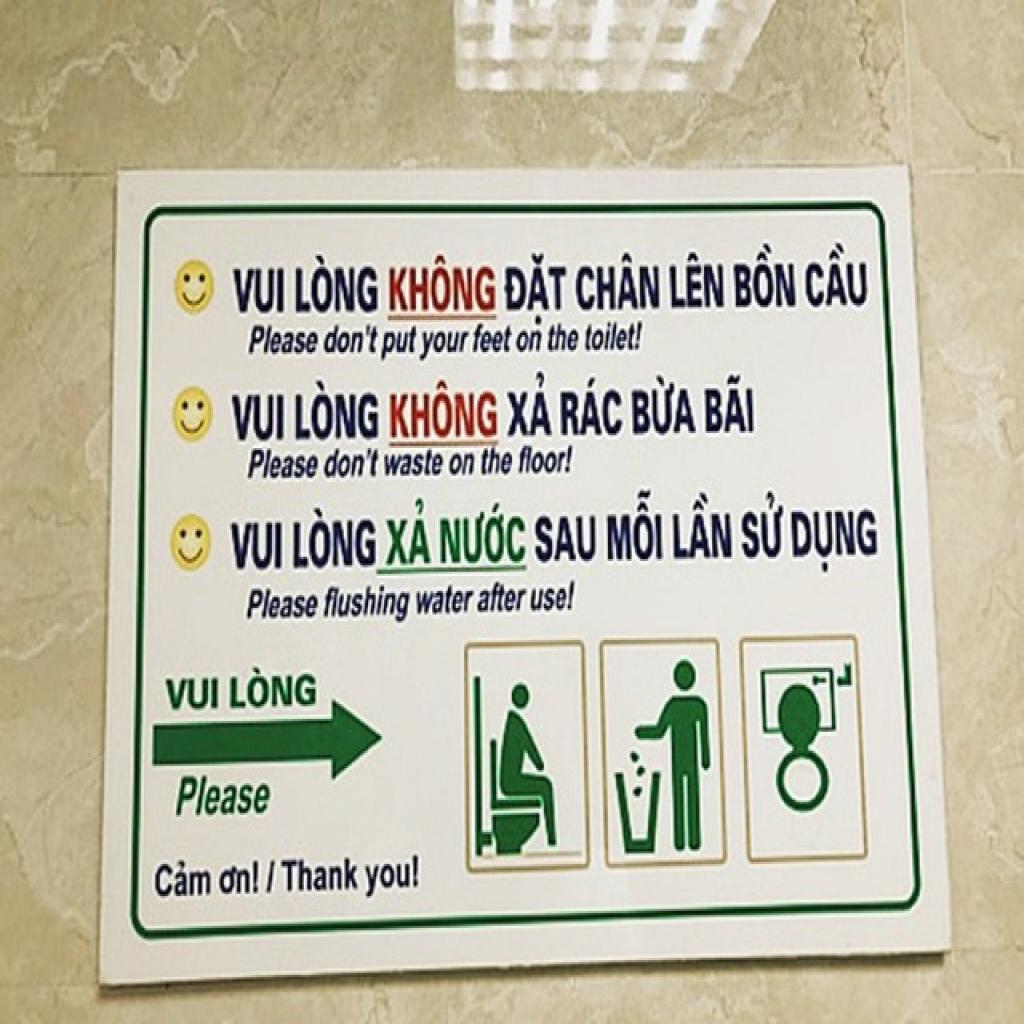text: (387, 376, 501, 442), (384, 252, 501, 316), (788, 506, 882, 578), (436, 499, 530, 568), (291, 503, 379, 574), (293, 249, 382, 318), (293, 377, 382, 446), (573, 250, 664, 316), (501, 250, 571, 328), (603, 482, 667, 565), (730, 239, 800, 314), (173, 772, 277, 822), (803, 239, 872, 314), (629, 369, 701, 440), (669, 489, 736, 563), (558, 374, 628, 440), (227, 664, 320, 712), (320, 582, 414, 628), (502, 364, 557, 442), (382, 492, 436, 570), (667, 248, 728, 314), (738, 482, 787, 563), (278, 853, 362, 898), (702, 369, 757, 437), (531, 514, 600, 568), (228, 516, 286, 576), (227, 390, 288, 446), (226, 264, 288, 318), (243, 585, 323, 625), (245, 446, 323, 484), (246, 322, 324, 359), (152, 856, 214, 902), (318, 320, 384, 358), (414, 580, 478, 619), (162, 674, 222, 715), (517, 442, 579, 480), (582, 318, 646, 354), (382, 446, 448, 480), (322, 446, 384, 482), (474, 578, 531, 617), (526, 576, 580, 617), (418, 328, 474, 367), (216, 856, 264, 900), (469, 320, 517, 358), (379, 322, 419, 367), (544, 320, 582, 356), (478, 446, 517, 478), (446, 450, 478, 480), (262, 856, 282, 898), (514, 329, 544, 356)
